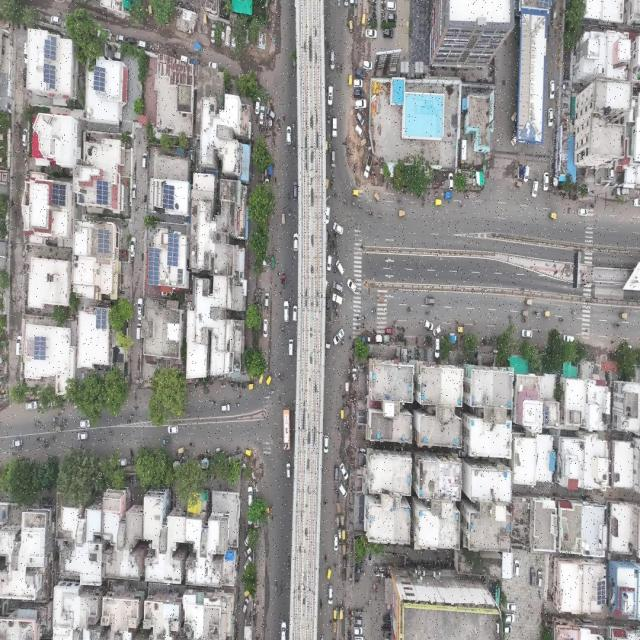3W: (264, 373, 274, 393), (372, 185, 381, 206), (542, 305, 552, 322), (518, 306, 531, 319), (617, 309, 630, 322), (329, 617, 339, 633), (360, 10, 368, 30), (547, 208, 558, 222), (257, 374, 266, 391), (454, 324, 465, 337), (397, 205, 405, 221), (340, 542, 347, 560), (280, 209, 287, 227), (350, 184, 360, 196), (337, 603, 344, 620), (339, 570, 346, 586), (339, 529, 346, 544), (330, 606, 338, 619), (434, 198, 442, 211), (335, 500, 342, 514), (340, 557, 347, 571), (525, 296, 533, 308), (348, 20, 355, 33), (346, 75, 353, 88), (326, 567, 332, 582), (340, 514, 346, 526), (245, 447, 253, 456), (341, 407, 345, 423), (248, 382, 255, 391)
Bus: (282, 405, 292, 450)
Cars: (338, 456, 353, 484), (561, 328, 579, 345), (135, 294, 145, 324), (109, 44, 125, 62), (422, 293, 437, 311), (283, 122, 292, 151), (547, 71, 556, 100), (362, 25, 379, 40), (128, 233, 137, 261), (166, 422, 182, 437), (350, 85, 366, 100), (542, 168, 550, 198), (615, 185, 631, 200), (46, 14, 62, 29), (113, 29, 127, 46), (345, 277, 358, 295), (331, 288, 344, 306), (325, 583, 335, 606), (264, 104, 277, 121), (338, 479, 348, 501), (353, 107, 365, 125), (77, 415, 92, 429), (217, 402, 232, 416), (520, 327, 534, 342), (351, 125, 365, 140), (176, 52, 191, 66), (11, 433, 24, 449), (333, 328, 345, 345), (578, 205, 590, 222), (14, 334, 22, 359), (282, 297, 290, 322), (446, 170, 456, 190), (263, 287, 272, 309), (123, 34, 137, 48), (332, 221, 345, 236), (135, 37, 148, 52), (331, 276, 343, 292), (537, 561, 543, 593), (292, 176, 299, 203), (209, 21, 217, 44), (278, 614, 285, 640), (246, 484, 255, 504), (243, 529, 253, 547), (529, 565, 536, 590), (253, 94, 260, 119), (27, 400, 40, 413), (292, 231, 299, 255), (506, 601, 520, 613), (422, 318, 436, 330), (353, 65, 365, 79), (353, 95, 365, 109), (225, 19, 231, 47), (21, 126, 27, 153), (262, 319, 269, 342), (326, 253, 333, 276), (323, 433, 330, 456), (335, 259, 345, 275), (512, 557, 520, 577), (509, 132, 519, 148), (383, 324, 395, 337), (351, 625, 364, 637), (387, 11, 399, 24), (289, 334, 296, 356), (269, 254, 276, 276), (207, 55, 218, 69), (333, 461, 339, 486), (532, 174, 538, 199), (22, 63, 28, 88), (243, 548, 255, 560), (242, 554, 251, 570), (383, 27, 395, 39), (361, 59, 373, 71), (291, 304, 298, 324), (241, 597, 248, 617), (435, 338, 442, 358), (259, 103, 264, 131), (332, 530, 338, 553), (325, 204, 331, 227), (74, 434, 89, 443), (189, 51, 198, 66), (285, 461, 292, 480), (351, 615, 362, 627), (327, 84, 333, 106), (330, 47, 335, 73), (504, 623, 513, 637), (432, 324, 442, 336), (387, 0, 400, 9), (333, 117, 338, 140), (135, 322, 141, 341), (352, 79, 363, 89), (377, 292, 386, 304), (24, 37, 28, 61), (549, 108, 554, 126), (505, 614, 516, 622)
LCV: (363, 153, 375, 176), (443, 188, 453, 204), (160, 436, 172, 448), (282, 268, 288, 288)
M2W: (356, 200, 368, 221), (610, 320, 622, 332), (366, 204, 374, 222), (277, 579, 284, 599), (464, 191, 474, 203), (330, 185, 338, 199), (423, 308, 435, 317), (37, 436, 46, 448), (339, 62, 345, 80), (370, 301, 377, 316), (403, 303, 413, 313), (505, 310, 514, 321), (333, 408, 340, 422), (107, 427, 115, 439), (281, 321, 286, 340), (571, 302, 577, 317), (319, 597, 325, 612), (273, 576, 278, 594), (127, 412, 136, 422), (124, 417, 133, 427), (334, 62, 340, 77), (286, 191, 291, 209), (557, 314, 565, 325), (323, 494, 329, 508), (330, 170, 337, 182), (328, 179, 335, 191), (340, 192, 347, 204), (377, 210, 384, 222), (355, 320, 361, 333), (285, 558, 291, 571), (326, 111, 332, 124), (56, 406, 63, 417), (23, 158, 28, 173), (360, 313, 368, 322), (354, 312, 362, 321), (348, 330, 354, 342), (274, 266, 280, 278), (35, 419, 43, 428), (323, 551, 328, 565), (43, 437, 53, 444), (332, 486, 338, 497), (330, 313, 335, 326), (277, 287, 282, 300), (291, 396, 296, 409), (98, 437, 106, 445), (533, 310, 540, 319), (453, 318, 462, 325), (234, 403, 241, 412), (188, 440, 195, 449), (276, 369, 280, 384), (280, 373, 285, 385), (277, 393, 282, 405), (292, 407, 296, 421), (132, 406, 141, 412), (210, 397, 216, 406), (351, 196, 355, 209), (337, 423, 342, 433), (11, 450, 19, 456), (50, 435, 56, 443), (238, 390, 243, 399), (43, 445, 52, 450), (51, 414, 58, 420), (288, 207, 291, 221)
